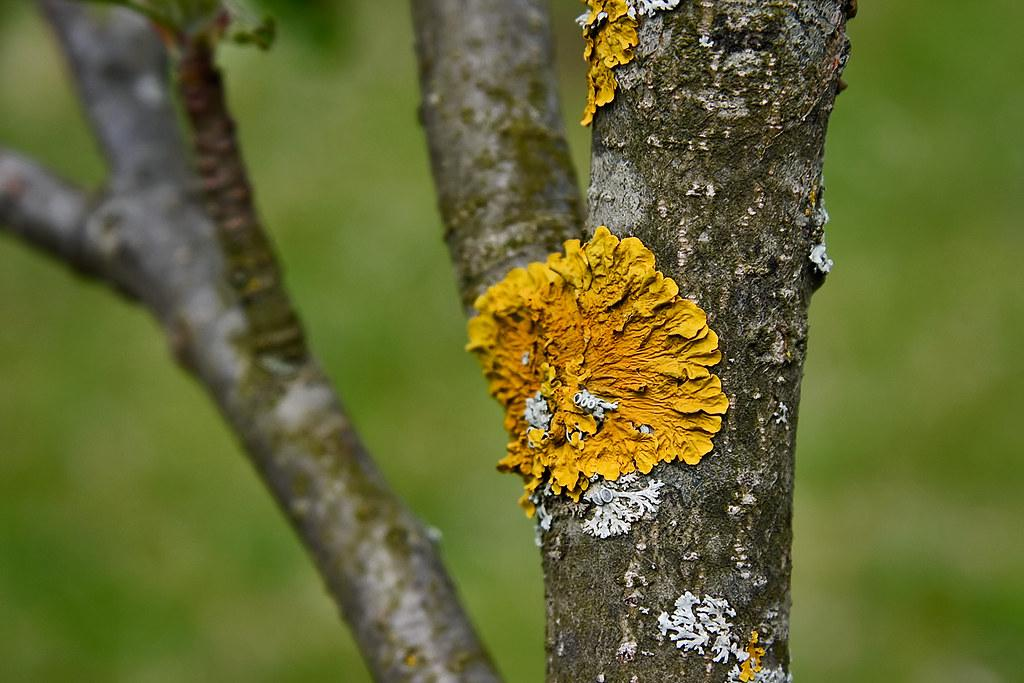lichen: (467, 226, 727, 515), (576, 0, 680, 125), (658, 591, 777, 682)
